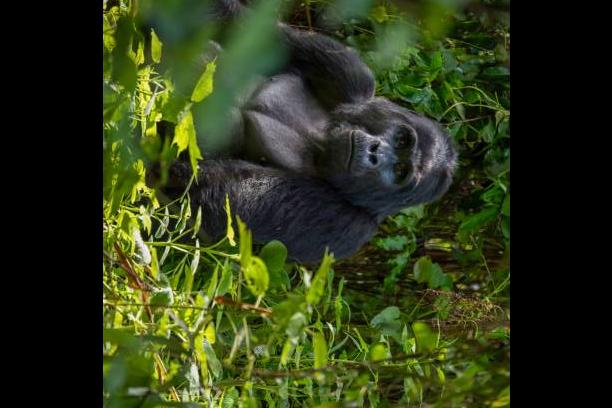goriile_montagne: (148, 0, 499, 283)
